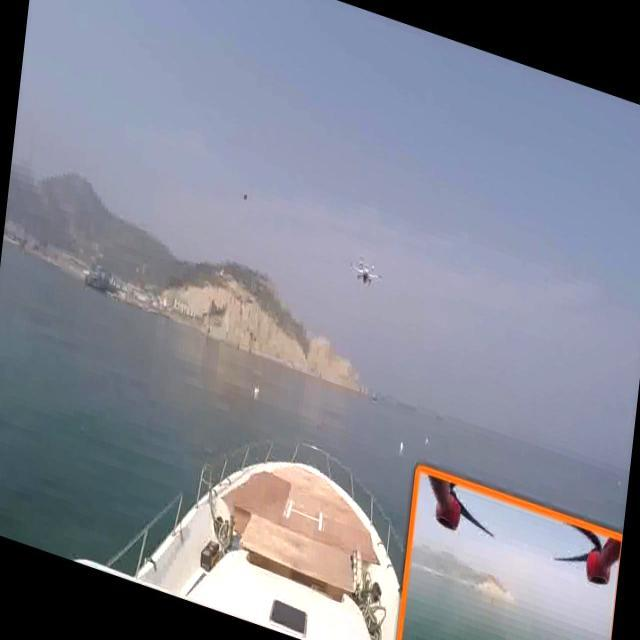drone: (342, 244, 386, 296), (238, 178, 255, 214)
